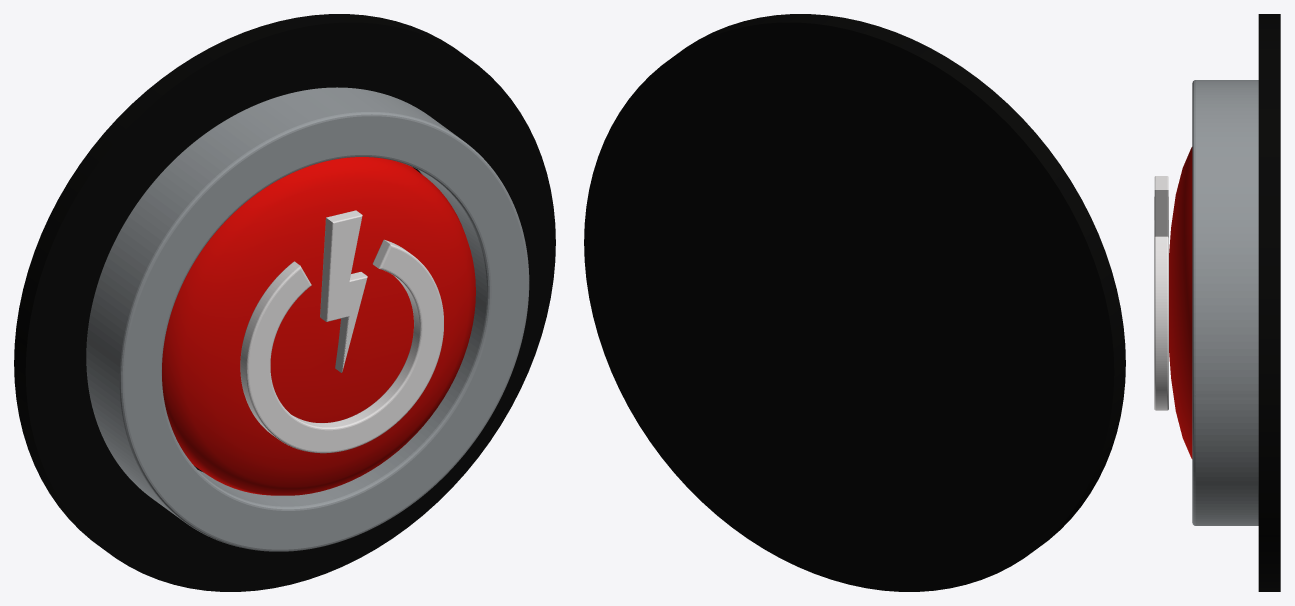
The model's file is always-on-Button.obj.
3 renders of one model, left to right at view 1: azimuth 30°, elevation 25°; view 2: azimuth 150°, elevation 25°; view 3: azimuth 270°, elevation 25°, orthographic. The views are drawn at different scales.
Visible parts, largest first — view 1: base_plate, bezel, button_cap, glyph_ring, glyph_bolt; view 2: base_plate; view 3: bezel, base_plate, button_cap, glyph_ring, glyph_bolt.
Boxes of the visible parts, <box> form: base_plate: <box>14,14,555,591</box>; bezel: <box>86,87,529,551</box>; button_cap: <box>162,157,475,495</box>; glyph_ring: <box>240,239,443,453</box>; glyph_bolt: <box>320,210,367,372</box>; base_plate: <box>584,14,1125,591</box>; bezel: <box>1192,80,1258,525</box>; base_plate: <box>1258,14,1280,591</box>; button_cap: <box>1169,147,1192,458</box>; glyph_ring: <box>1154,197,1168,410</box>; glyph_bolt: <box>1154,176,1168,237</box>.
Size of the model in its own units: 1.84 by 1.84 by 0.4025.
